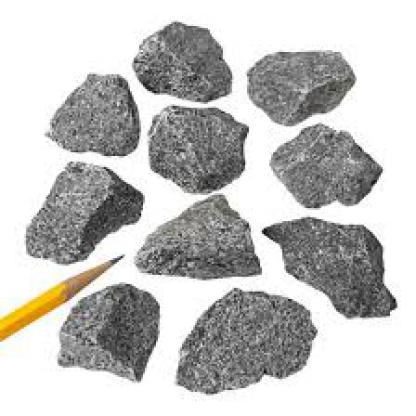Igneous_Diorite: (174, 286, 328, 396), (258, 217, 409, 325), (19, 150, 141, 268), (126, 9, 242, 106), (260, 126, 394, 208), (247, 44, 371, 120)
